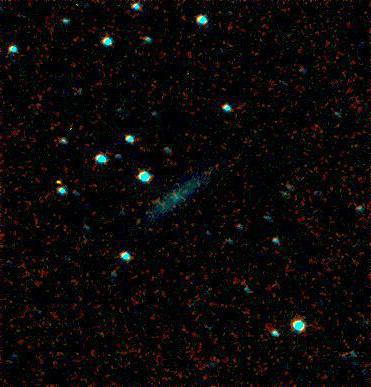star: (44, 168, 74, 198)
